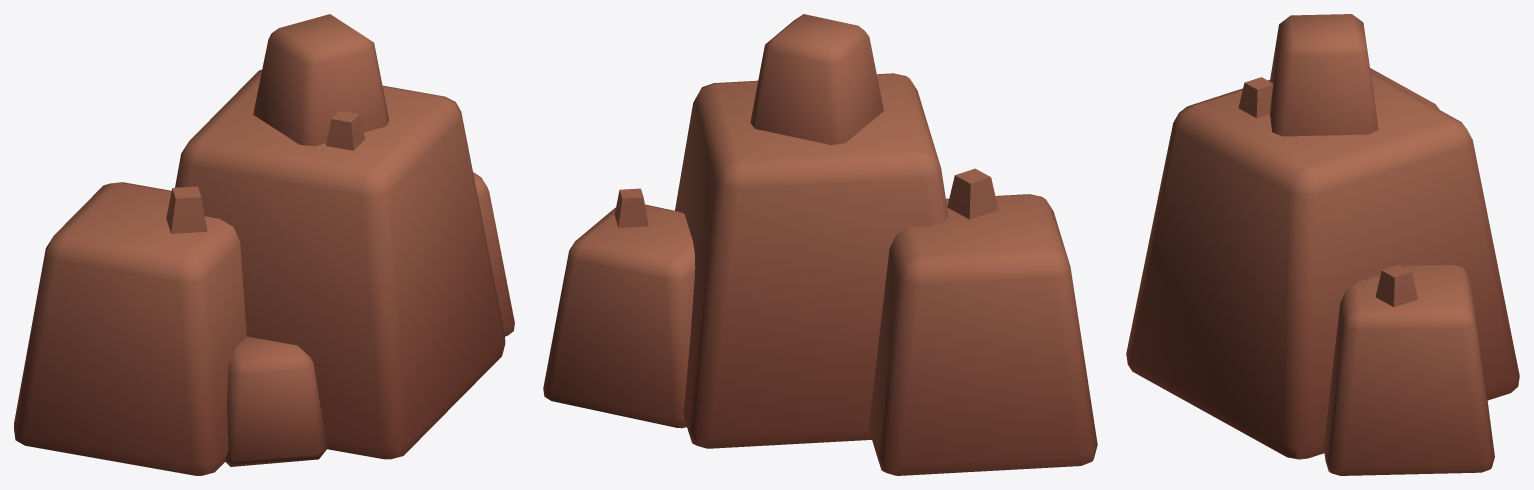
The model's file is Rock_2_F_Color2.fbx.
3 views of the same model, side by side, from view 1: azimuth 30°, elevation 25°; view 2: azimuth 150°, elevation 25°; view 3: azimuth 270°, elevation 25° (orthographic).
Visible parts, largest first — view 1: Rock_2_F_Color2; view 2: Rock_2_F_Color2; view 3: Rock_2_F_Color2.
Boxes of the visible parts, <box> form: Rock_2_F_Color2: <box>14,14,514,475</box>; Rock_2_F_Color2: <box>543,14,1097,475</box>; Rock_2_F_Color2: <box>1126,14,1519,475</box>.
Bounding box in the file's own units: 4.14 × 2.86 × 2.87.
